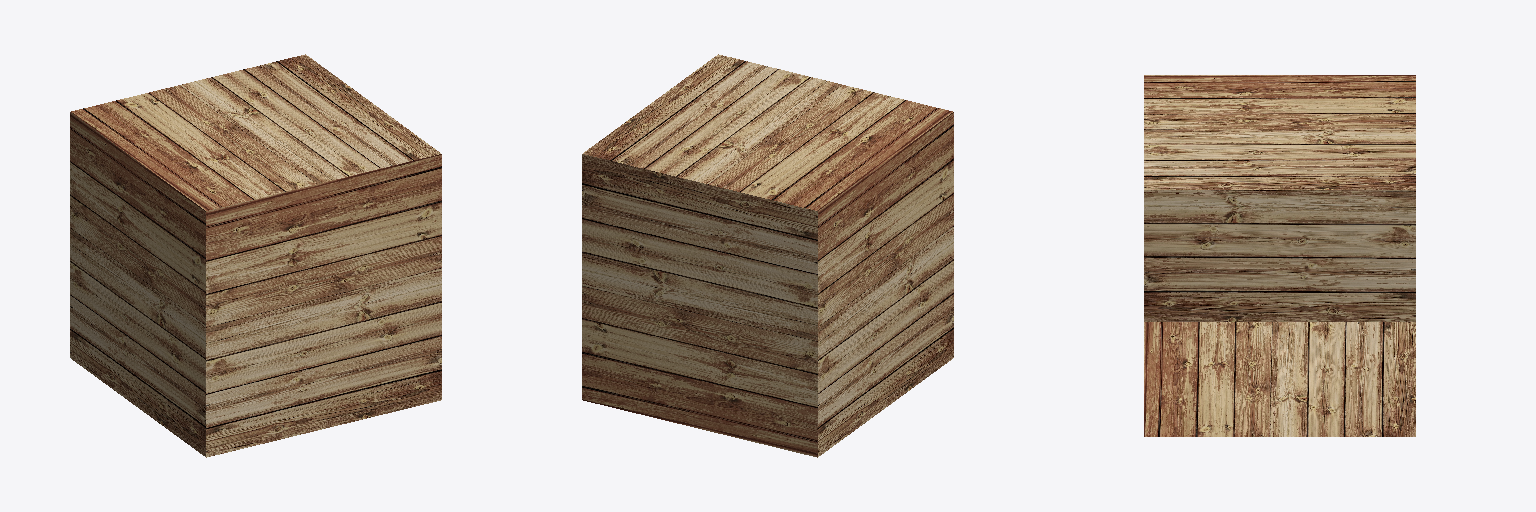
3 views of the same model, side by side, from view 1: azimuth 30°, elevation 25°; view 2: azimuth 150°, elevation 25°; view 3: azimuth 270°, elevation 25° (orthographic).
Visible parts, largest first — view 1: Cube; view 2: Cube; view 3: Cube.
Boxes of the visible parts, box(x1,y1,x2,y2) form: Cube: box(70, 54, 441, 457); Cube: box(582, 54, 953, 457); Cube: box(1144, 75, 1415, 436).
Bounding box in the file's own units: 2 × 2 × 2.
Materials: 1 (1 with a texture image).